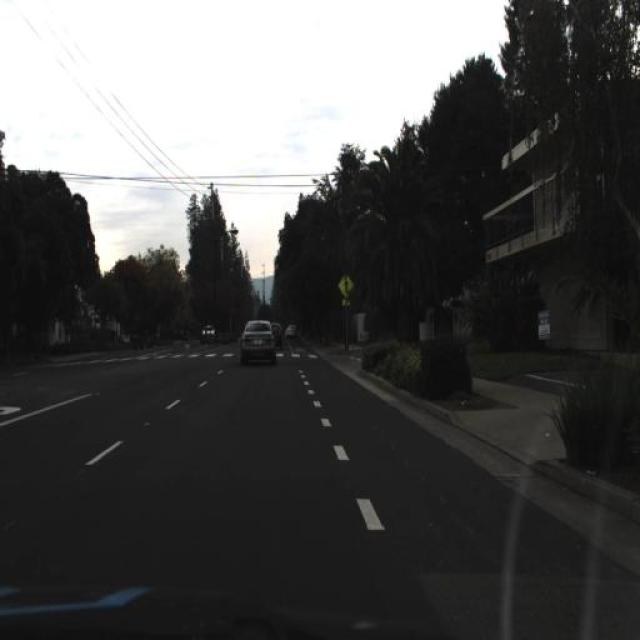car: (233, 307, 279, 381), (196, 320, 220, 351), (272, 314, 286, 354), (271, 316, 284, 358), (284, 314, 296, 346)
